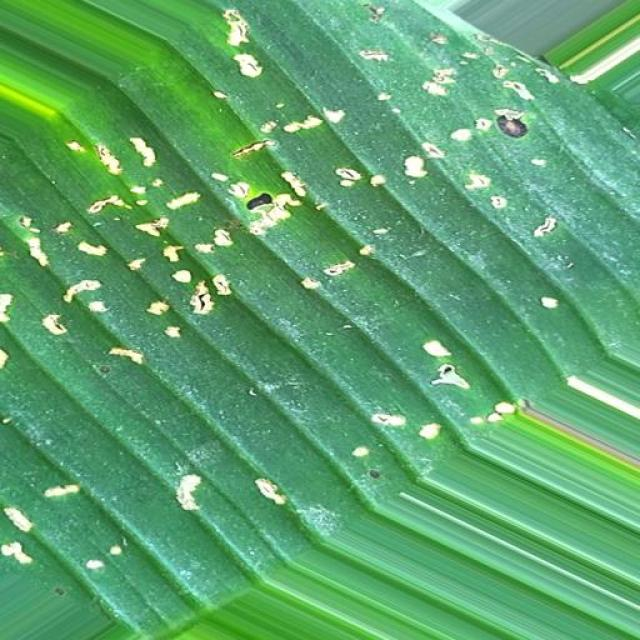Black_rot: (0, 8, 640, 608)
